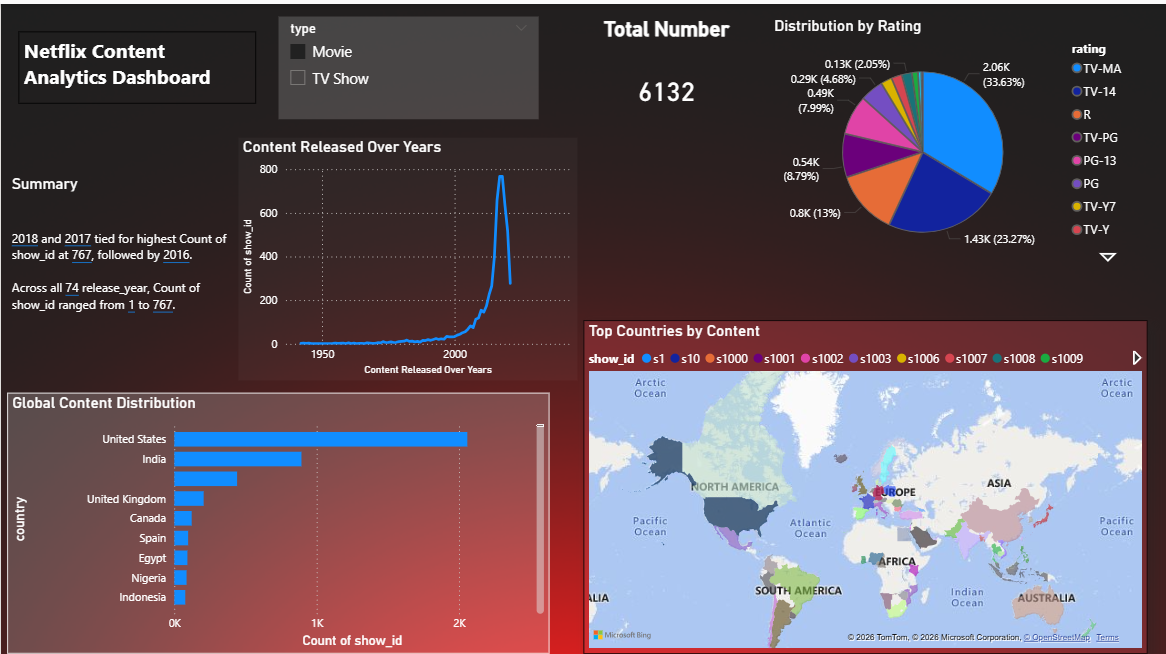

The dashboard page shown, as its layout file describes it:
{"tool":"powerbi","page":{"name":"Page 1","canvas":[1280,720],"ordinal":0},"visuals":[{"type":"barChart","title":"Global Content Distribution","fields":{"Y":["CountNonNull(netflix_titles.show_id)"],"Category":["netflix_titles.country"]},"box":[6.9,426.8,595.5,286.8],"z":0},{"type":"filledMap","title":"Top Countries by Content","fields":{"Category":["netflix_titles.country"],"Series":["netflix_titles.show_id"]},"box":[639.5,347.2,618.9,366.4],"z":1000},{"type":"slicer","fields":{"Values":["netflix_titles.type"]},"box":[304.6,13.7,285.4,112.5],"z":2000},{"type":"lineChart","title":"Content Released Over Years","fields":{"Category":["netflix_titles.release_year"],"Y":["CountNonNull(netflix_titles.show_id)"]},"box":[260.7,146.8,371.9,266.2],"z":3000},{"type":"pieChart","title":"Distribution by Rating","fields":{"Category":["netflix_titles.rating"],"Y":["CountNonNull(netflix_titles.type)"]},"box":[843.9,13.7,414.4,277.2],"z":4000},{"type":"card","title":"Total Number","fields":{"Values":["CountNonNull(netflix_titles.show_id)"]},"box":[617.5,13.7,226.4,133.1],"z":5000},{"type":"textbox","title":"Summary","box":[6.9,186.6,260.7,208.6],"z":6000},{"type":"textbox","box":[19.2,30.2,260.7,79.6],"z":7000}]}

Visuals, with their boxes in screenshot pixels (x1, y1, x2, y2), scaled from the page's 1280x720 canvas onto the 1166x654 screenshot:
"Global Content Distribution" barChart: (6, 388, 549, 648)
"Top Countries by Content" filledMap: (583, 315, 1146, 648)
slicer - netflix_titles.type: (277, 12, 537, 115)
"Content Released Over Years" lineChart: (237, 133, 576, 375)
"Distribution by Rating" pieChart: (769, 12, 1146, 264)
"Total Number" card: (563, 12, 769, 133)
"Summary" textbox: (6, 169, 244, 359)
textbox: (17, 27, 255, 100)
